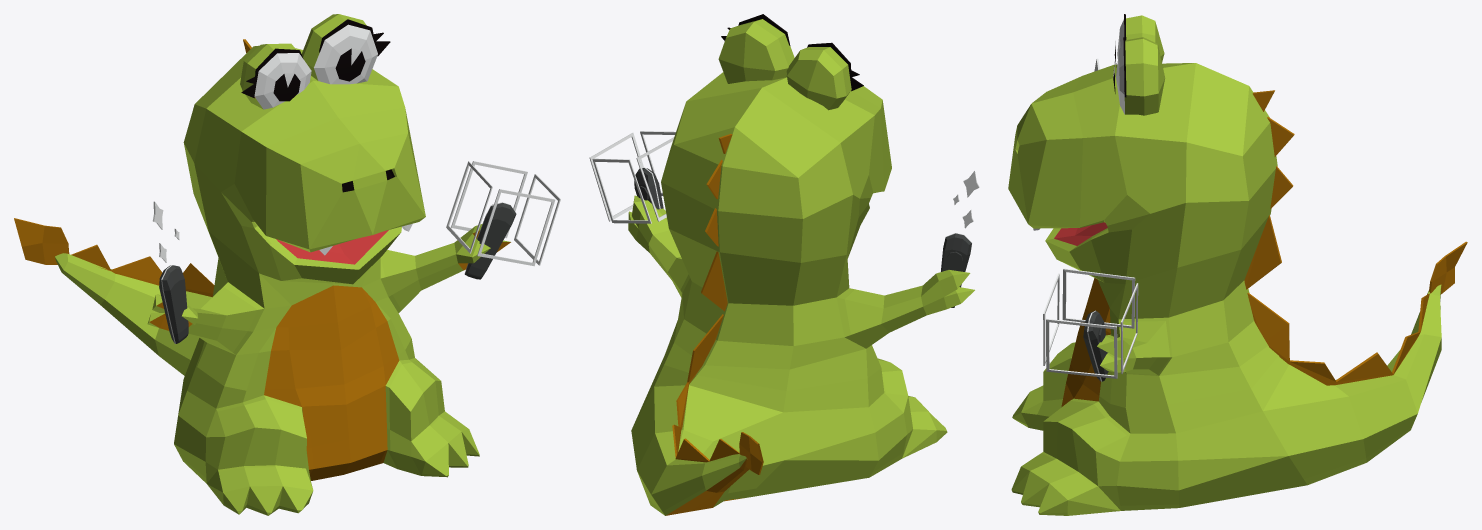
The model's file is tiltasaurus.glb.
3 renders of one model, left to right at view 1: azimuth 30°, elevation 25°; view 2: azimuth 150°, elevation 25°; view 3: azimuth 270°, elevation 25°, orthographic. The views are drawn at different scales.
Visible parts, largest first — view 1: Highlowpoly_dino Highpoly_lowpoly; view 2: Highlowpoly_dino Highpoly_lowpoly; view 3: Highlowpoly_dino Highpoly_lowpoly.
Boxes of the visible parts, <box> form: Highlowpoly_dino Highpoly_lowpoly: <box>14,14,560,515</box>; Highlowpoly_dino Highpoly_lowpoly: <box>589,14,979,515</box>; Highlowpoly_dino Highpoly_lowpoly: <box>1008,14,1467,515</box>.
Size of the model in its own units: 2.6 by 2.7 by 2.59.
Materials: 1 (1 with a texture image).
